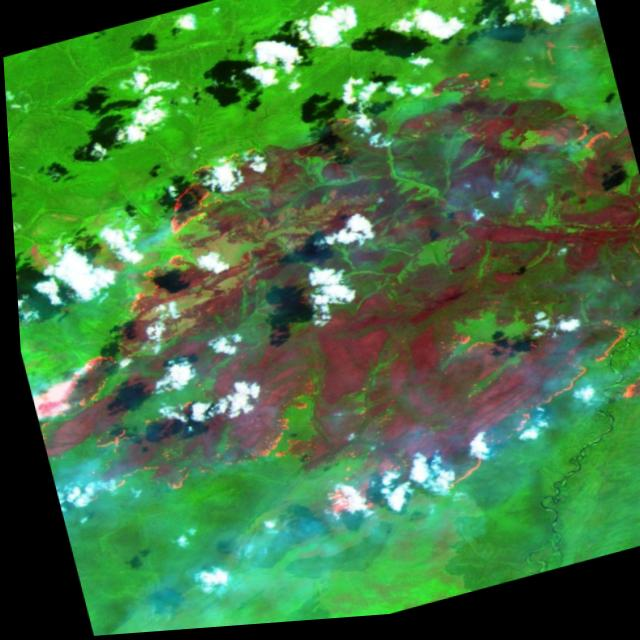fire: (7, 135, 291, 455), (357, 281, 635, 518), (380, 28, 616, 194)
